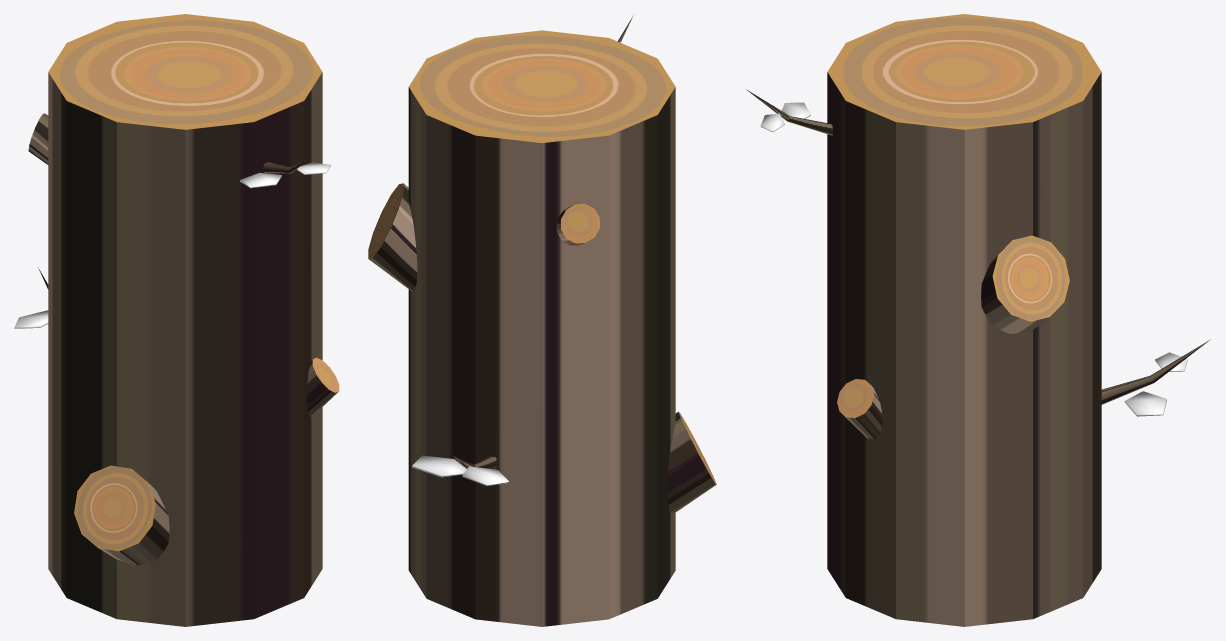
Rendered from log_1x2.obj.
The picture shows the model from 3 angles, left to right: view 1: azimuth 30°, elevation 25°; view 2: azimuth 150°, elevation 25°; view 3: azimuth 270°, elevation 25°; orthographic projection. The views are drawn at different scales.
Visible parts, largest first — view 1: polySurface15; view 2: polySurface15; view 3: polySurface15.
Part boxes in pixels (bbox=[...]): polySurface15: bbox=[14, 14, 339, 626]; polySurface15: bbox=[368, 15, 716, 626]; polySurface15: bbox=[746, 14, 1210, 626].
Size of the model in its own units: 123 by 200 by 170.
